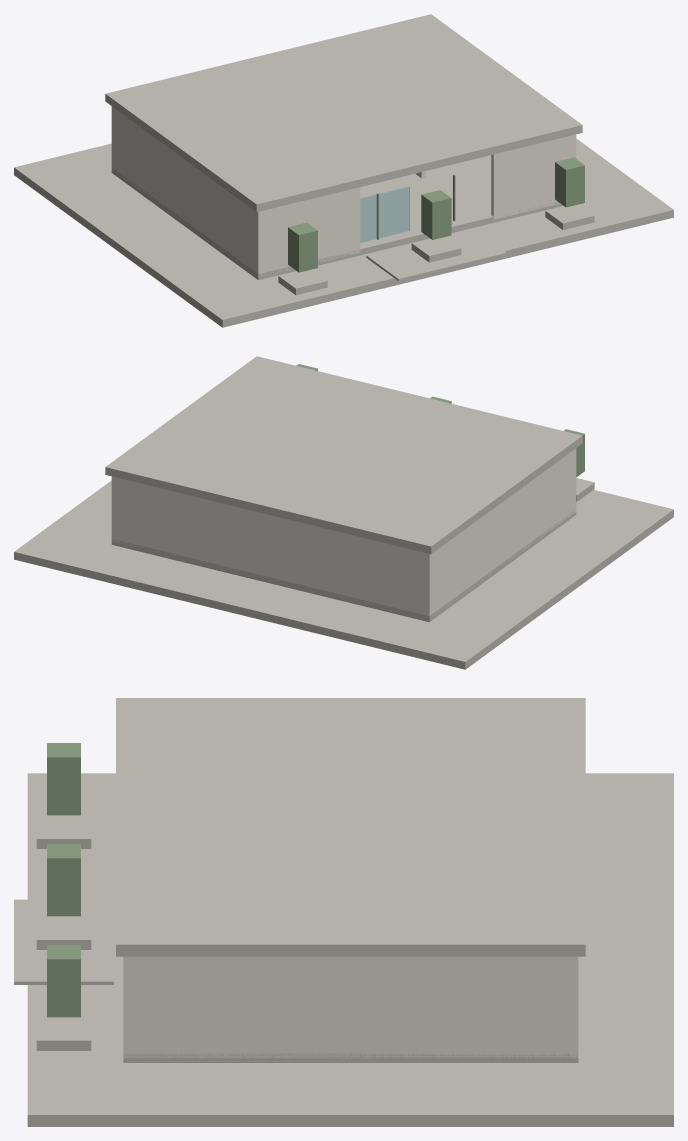
File: bright-house.glb
3 renders of one model, top to bottom at view 1: azimuth 30°, elevation 25°; view 2: azimuth 150°, elevation 25°; view 3: azimuth 270°, elevation 25°, orthographic. The views are drawn at different scales.
Visible parts, largest first — view 1: roof_roof, site_base, structure_left, structure_floor, structure_front-left, structure_front-right, site_path, glass_front-glazing, site_tree-1, site_tree-2, site_tree-0, site_planter-1 (+2 smaller); view 2: roof_roof, site_base, structure_rear, structure_left, structure_floor; view 3: roof_roof, site_base, structure_right, site_path, structure_floor, site_tree-0, site_tree-1, site_tree-2, site_planter-2, site_planter-0, site_planter-1.
Boxes of the visible parts, left/top/right/bottom form: roof_roof: left=105, top=14, right=582, bottom=211; site_base: left=14, top=138, right=673, bottom=327; structure_left: left=111, top=106, right=262, bottom=273; structure_floor: left=111, top=155, right=563, bottom=280; structure_front-left: left=257, top=187, right=360, bottom=275; structure_front-right: left=491, top=134, right=576, bottom=219; site_path: left=366, top=229, right=506, bottom=281; glass_front-glazing: left=360, top=186, right=409, bottom=242; site_tree-1: left=421, top=190, right=451, bottom=239; site_tree-2: left=555, top=157, right=584, bottom=207; site_tree-0: left=288, top=222, right=317, bottom=272; site_planter-1: left=411, top=237, right=461, bottom=262; roof_roof: left=105, top=356, right=582, bottom=553; site_base: left=14, top=480, right=673, bottom=669; structure_rear: left=111, top=476, right=429, bottom=616; structure_left: left=425, top=450, right=573, bottom=617; structure_floor: left=111, top=511, right=576, bottom=622; roof_roof: left=116, top=698, right=585, bottom=956; site_base: left=27, top=773, right=673, bottom=1126; structure_right: left=123, top=956, right=578, bottom=1058; site_path: left=14, top=899, right=113, bottom=984; structure_floor: left=123, top=1053, right=578, bottom=1062; site_tree-0: left=47, top=743, right=80, bottom=815; site_tree-1: left=47, top=844, right=80, bottom=916; site_tree-2: left=47, top=945, right=80, bottom=1017; site_planter-2: left=36, top=1016, right=91, bottom=1050; site_planter-0: left=36, top=814, right=91, bottom=848; site_planter-1: left=36, top=915, right=91, bottom=949.
Bounding box in the file's own units: 17.04 × 3.14 × 13.92.
